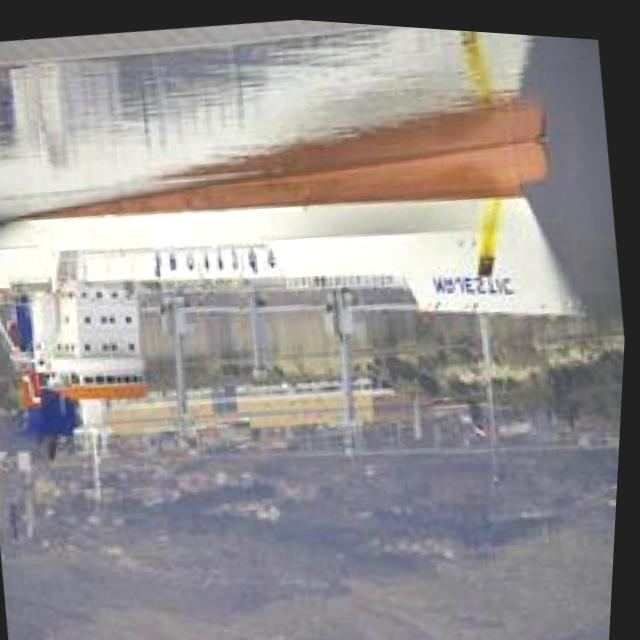ship2: (0, 135, 590, 505)
